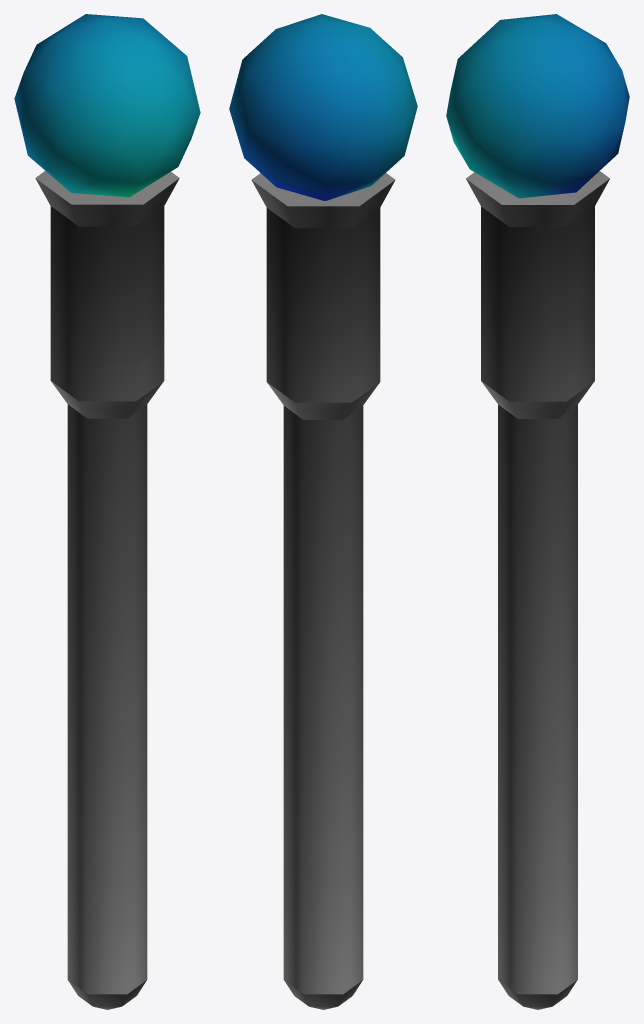
Rendered from Wand1h_03.fbx.
3 renders of one model, left to right at view 1: azimuth 30°, elevation 25°; view 2: azimuth 150°, elevation 25°; view 3: azimuth 270°, elevation 25°, orthographic.
Parts seen in each view (by area): view 1: Wand1h_03; view 2: Wand1h_03; view 3: Wand1h_03.
Part boxes in pixels (x1,y1,x2,y2): Wand1h_03: (14,14,200,1009); Wand1h_03: (229,14,417,1009); Wand1h_03: (446,14,629,1009).
Size of the model in its own units: 15.16 by 87.75 by 14.75.
